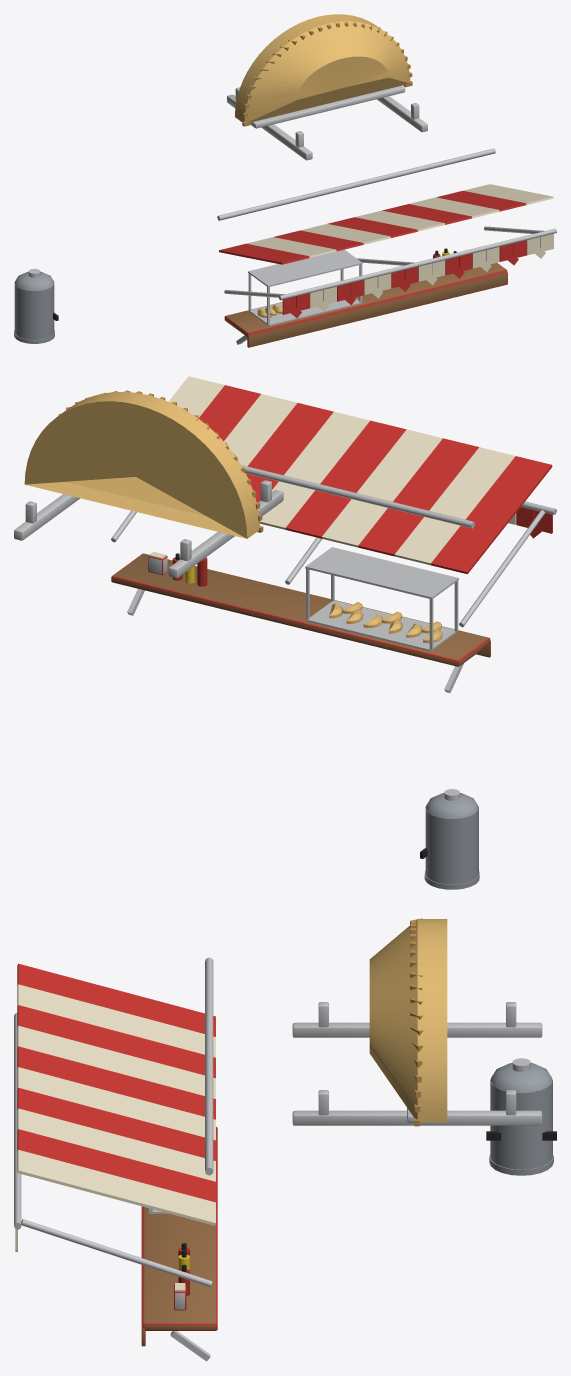
File: pastel-banca.glb
The picture shows the model from 3 angles, top to bottom: view 1: azimuth 30°, elevation 25°; view 2: azimuth 150°, elevation 25°; view 3: azimuth 270°, elevation 25°; orthographic projection. The views are drawn at different scales.
Parts seen in each view (by area): view 1: pastel_banca, pastel_teto, pastel_botijao; view 2: pastel_banca, pastel_teto, pastel_botijao; view 3: pastel_banca, pastel_teto, pastel_botijao.
Part boxes in pixels (<box>): pastel_banca: <box>217,148,556,347</box>; pastel_teto: <box>227,14,427,160</box>; pastel_botijao: <box>14,268,58,343</box>; pastel_banca: <box>111,376,556,692</box>; pastel_teto: <box>14,390,283,578</box>; pastel_botijao: <box>420,789,479,889</box>; pastel_banca: <box>14,957,217,1361</box>; pastel_teto: <box>292,918,542,1126</box>; pastel_botijao: <box>486,1058,556,1175</box>.
Bounding box in the file's own units: 3.27 × 2.26 × 2.61.
